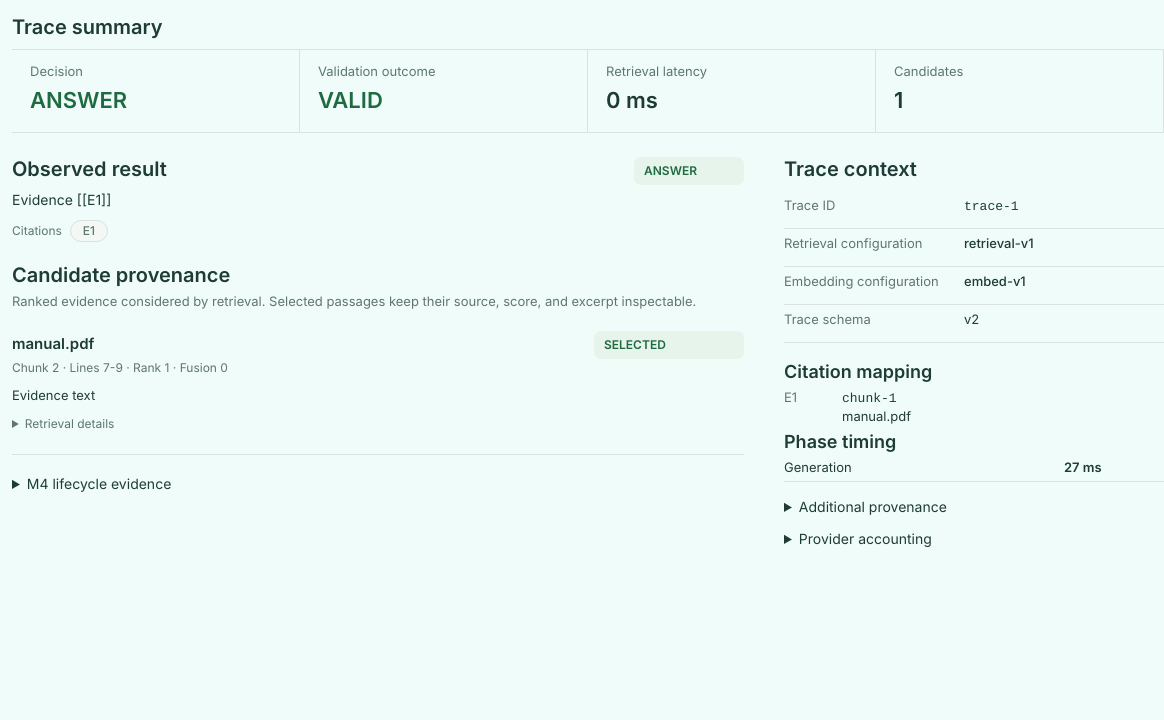
Figma operator data surfaces › retains candidate decision SELECTED with full evidence and provenance
Expected: the text "manual.pdf" below "Candidate provenance" is shown, [12, 334, 94, 353]
Expected: the text "Evidence text" is shown, [12, 388, 95, 404]
Click the heading "Retrieval details" at (70, 424), box [25, 416, 114, 431]
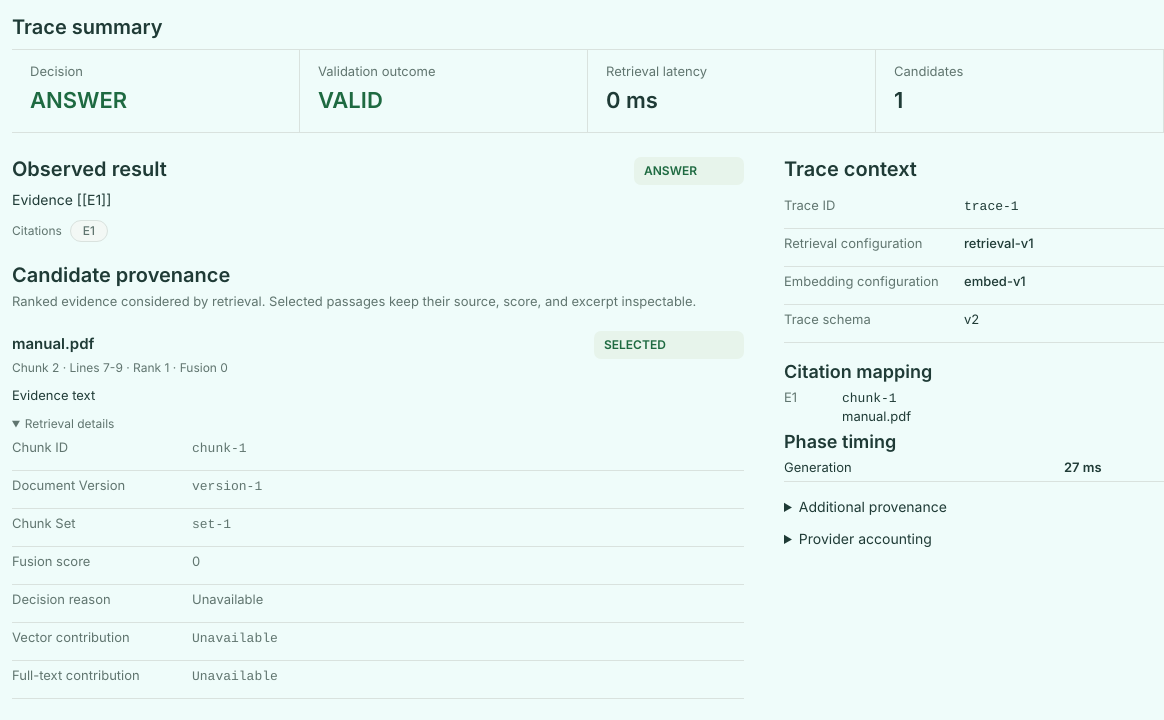
Now the text "chunk-1" next to "Chunk ID" is shown, box [192, 441, 247, 456]
Now the text "version-1" is shown, box [192, 479, 262, 494]
Now the text "set-1" is shown, box [192, 517, 231, 532]
